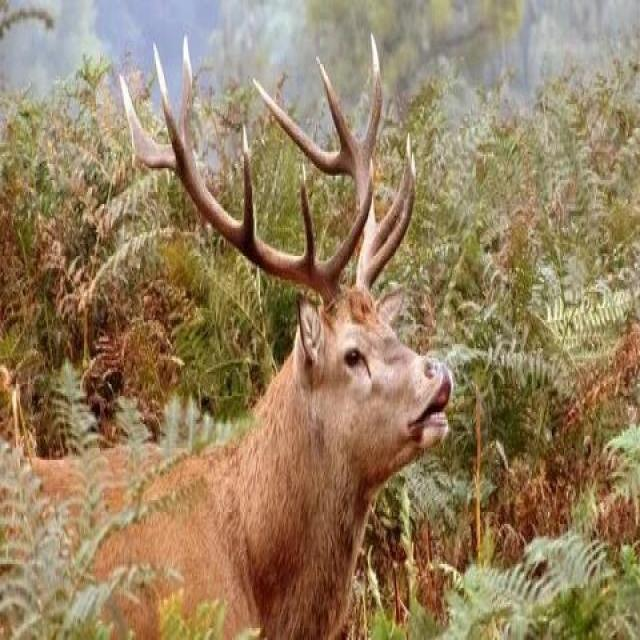deer: (158, 78, 474, 622)
